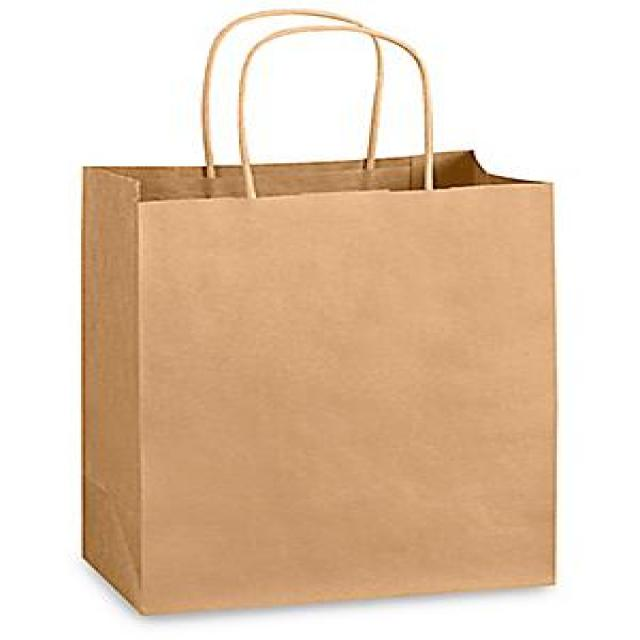paper bag: (71, 158, 556, 616)
